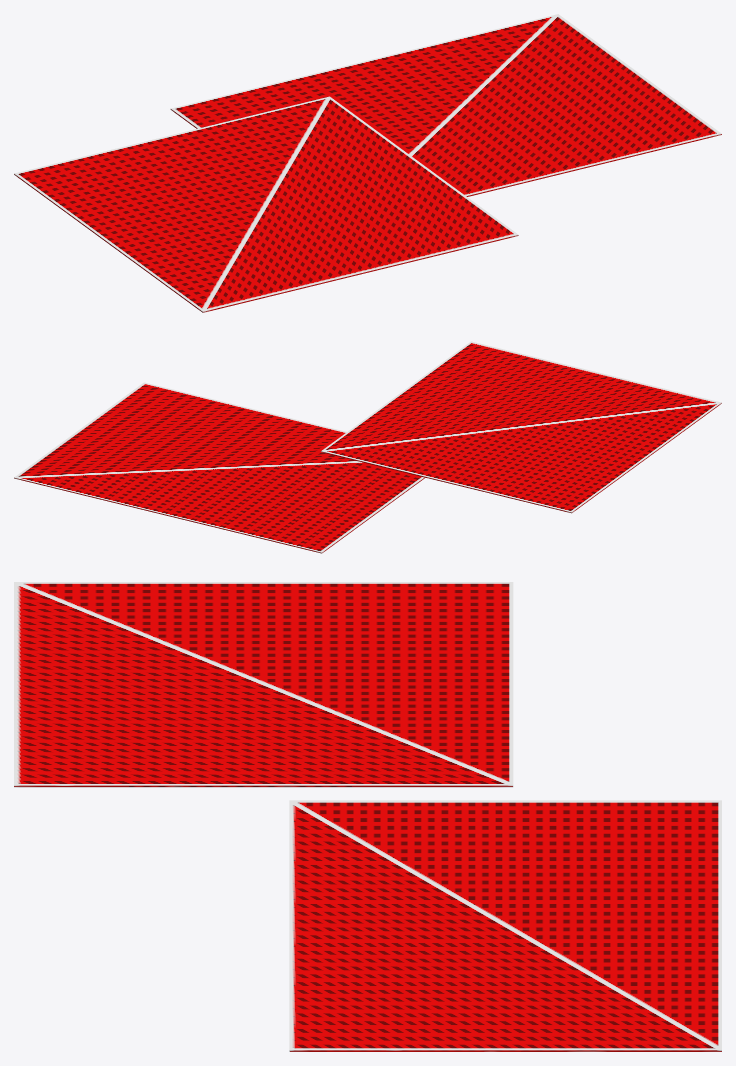
Rendered from Killplanes.obj.
3 renders of one model, top to bottom at view 1: azimuth 30°, elevation 25°; view 2: azimuth 150°, elevation 25°; view 3: azimuth 270°, elevation 25°, orthographic. The views are drawn at different scales.
Size of the model in its own units: 17280 by 1364 by 12865.
Materials: 1 (1 with a texture image).
